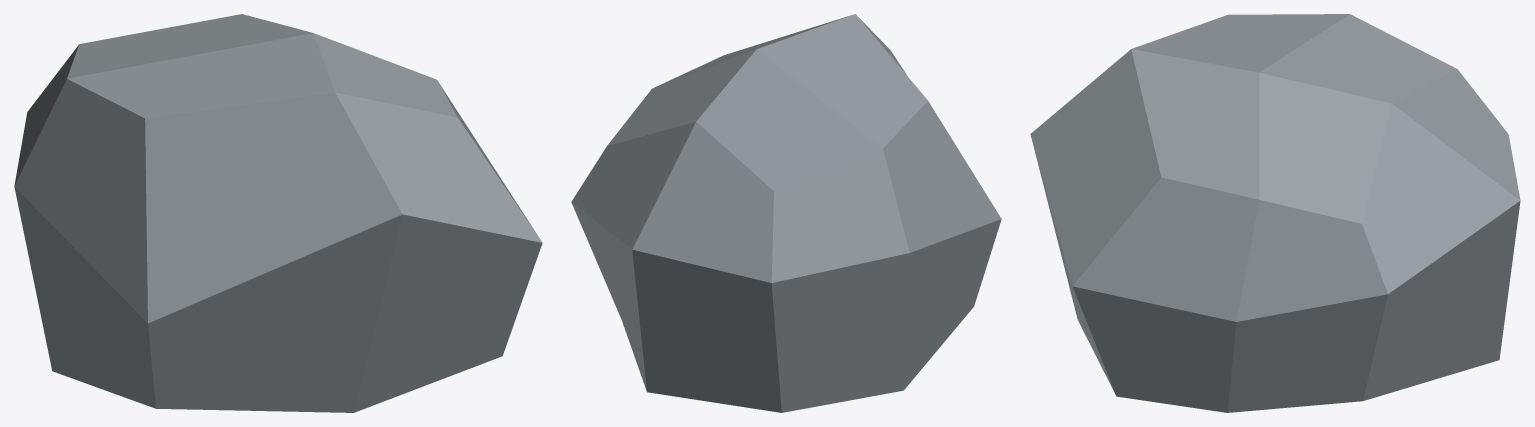
File: maya_export_Boulder2_v2.fbx
3 views of the same model, side by side, from view 1: azimuth 30°, elevation 25°; view 2: azimuth 150°, elevation 25°; view 3: azimuth 270°, elevation 25° (orthographic). The views are drawn at different scales.
Parts seen in each view (by area): view 1: Boulder2_v2; view 2: Boulder2_v2; view 3: Boulder2_v2.
Part boxes in pixels (bbox=[...]): Boulder2_v2: bbox=[14, 14, 542, 412]; Boulder2_v2: bbox=[571, 14, 1001, 412]; Boulder2_v2: bbox=[1030, 14, 1520, 412].
Size of the model in its own units: 13.56 by 10.76 by 15.46.
Materials: 1 (1 with a texture image).
